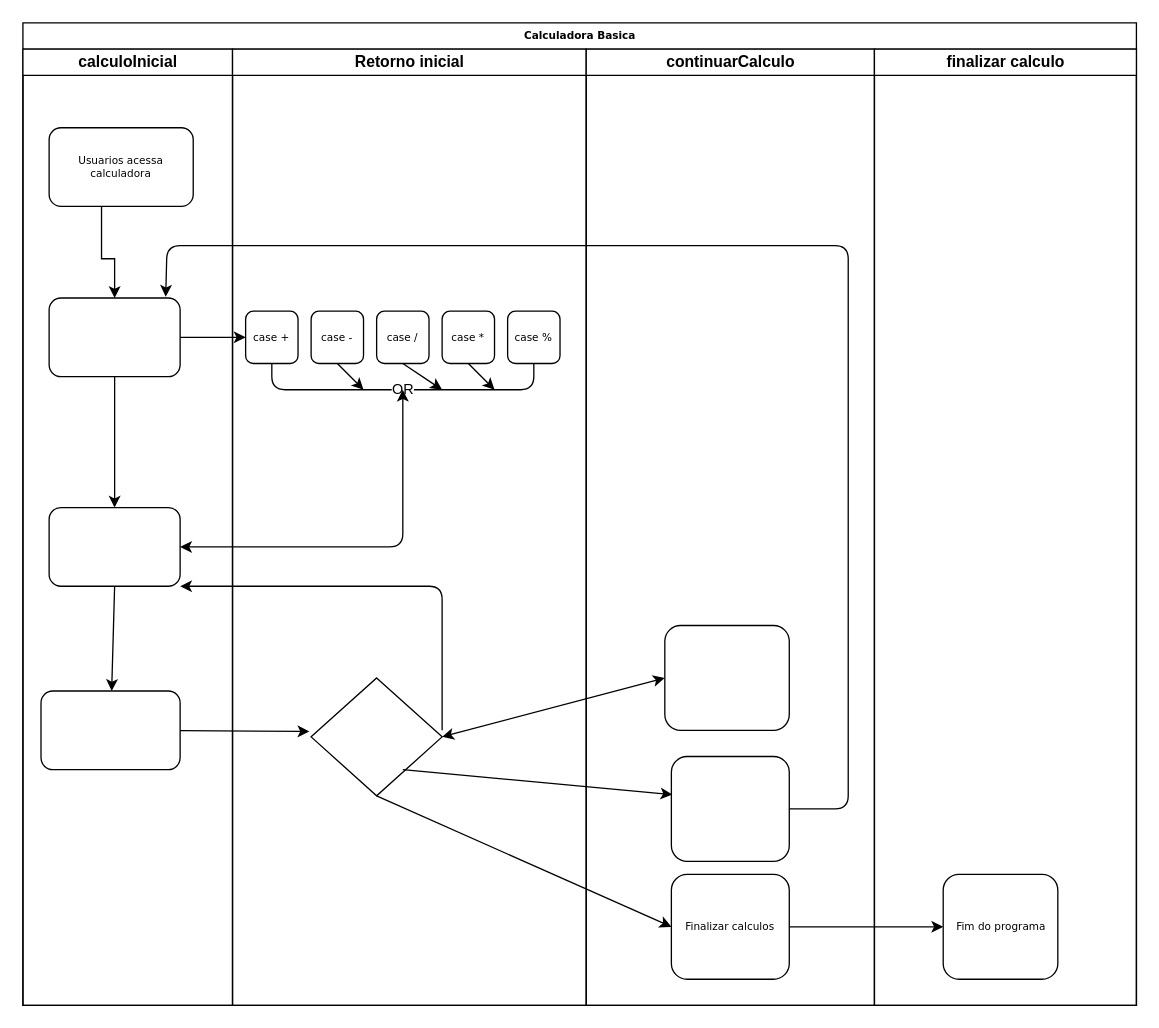
Image size: 1159x1028. Some labels were removed from this diagram. Here are the shapes that lost their labels. From the top down, the box of each, then its label:
(48, 297, 180, 377): insere o primeiro numero
(48, 506, 180, 586): escolhe o operador
(664, 624, 789, 730): continuar calculo
(40, 690, 180, 770): escolhe o segundo numero
(310, 677, 442, 796): Resultado do calculo
(670, 755, 789, 861): Iniciar um novo calculo
